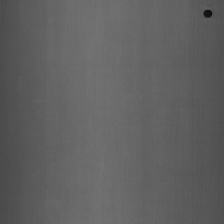punching_hole: (202, 6, 213, 20)
